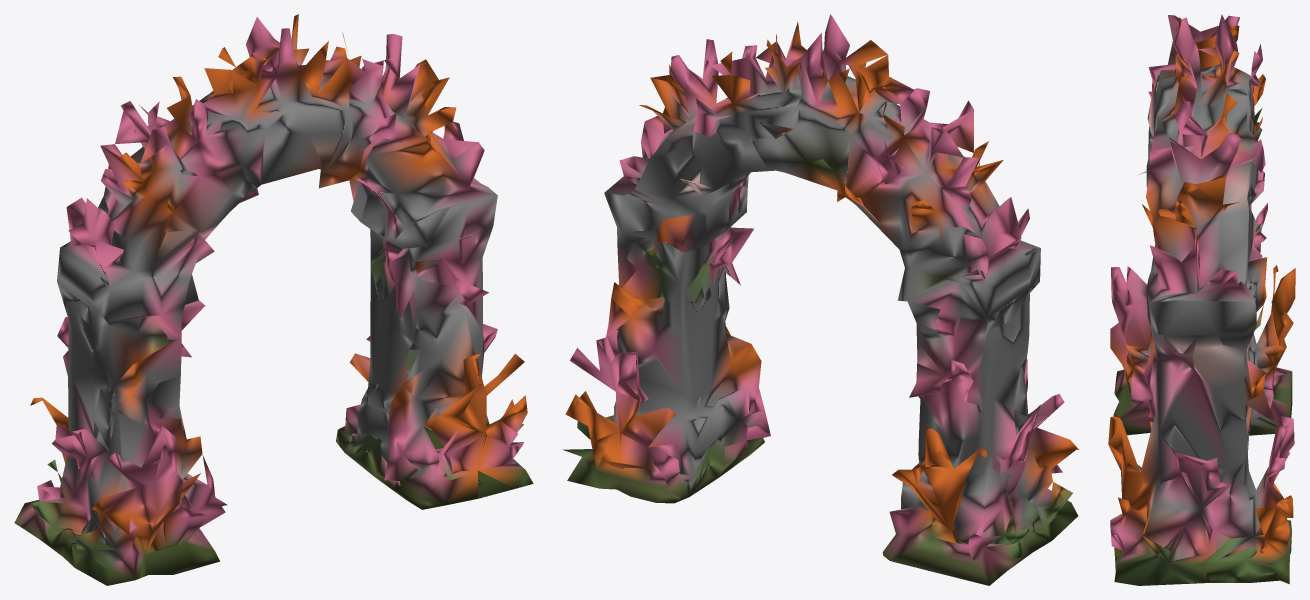
The model's file is gen3d-coral-covered-archway-lod0.glb.
3 renders of one model, left to right at view 1: azimuth 30°, elevation 25°; view 2: azimuth 150°, elevation 25°; view 3: azimuth 270°, elevation 25°, orthographic. The views are drawn at different scales.
Visible parts, largest first — view 1: part_0; view 2: part_0; view 3: part_0.
Boxes of the visible parts, x1=… form: part_0: x1=14, y1=14, x2=533, y2=585; part_0: x1=563, y1=14, x2=1078, y2=585; part_0: x1=1108, y1=14, x2=1295, y2=585.
Bounding box in the file's own units: 0.9747 × 0.9997 × 0.3629.
